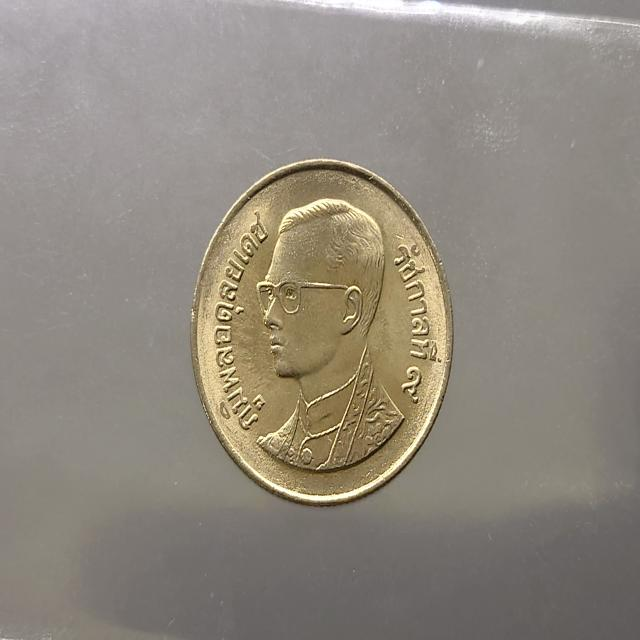1 Bath: (185, 147, 463, 519)
